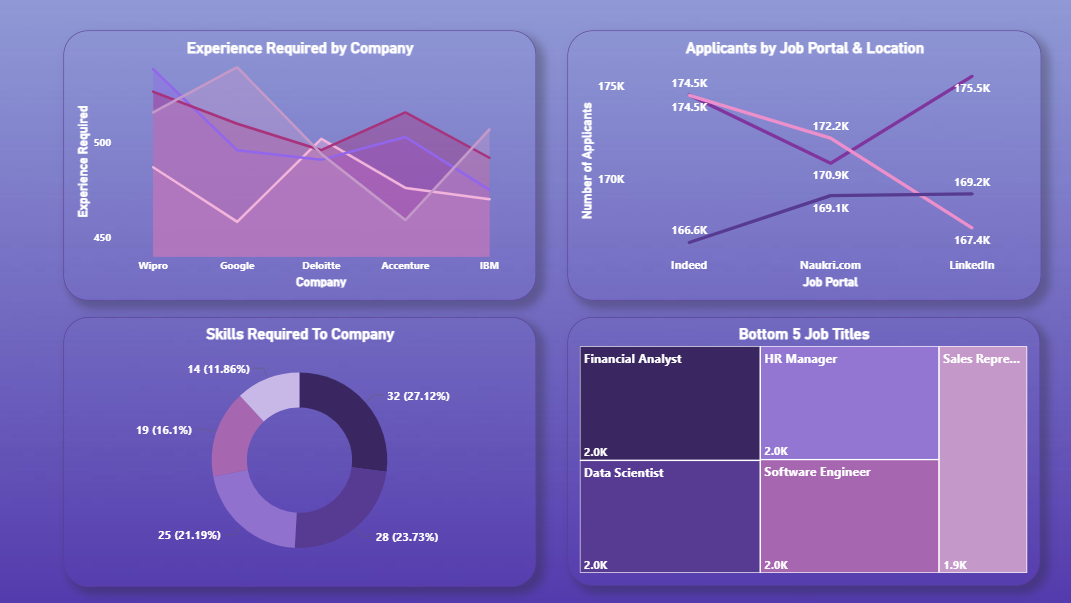

This screenshot's page, from the dashboard's own definition file:
{"tool":"powerbi","page":{"name":"Page 2","canvas":[1280,720],"ordinal":1},"visuals":[{"type":"treemap","title":"Bottom 5 Job Titles","fields":{"Group":["india_job_market_dataset.Job Title"],"Values":["CountNonNull(india_job_market_dataset.Job Portal)"]},"box":[676.3,377.7,562.5,320],"z":0},{"type":"areaChart","title":"Experience Required by Company ","fields":{"Category":["india_job_market_dataset.Company Name"],"Series":["india_job_market_dataset.Job Type"],"Y":["CountNonNull(india_job_market_dataset.Experience Required)"]},"box":[77.5,37.9,562.5,321.6],"z":1000},{"type":"lineChart","title":" Applicants by Job Portal & Location","fields":{"Category":["india_job_market_dataset.Job Portal"],"Y":["Sum(india_job_market_dataset.Number of Applicants)"],"Series":["india_job_market_dataset.Job Location"]},"box":[676.3,37.9,564.1,321.6],"z":2000},{"type":"donutChart","title":" Skills Required To Company","fields":{"Category":["india_job_market_dataset.Skills Required"],"Y":["CountNonNull(india_job_market_dataset.Company Name)"]},"box":[77.5,377.7,562.5,321.6],"z":3000}]}

Visuals, with their boxes in screenshot pixels (x1, y1, x2, y2), scaled from the page's 1280x720 canvas onto the 1071x603 screenshot:
"Bottom 5 Job Titles" treemap: (566,316,1037,584)
"Experience Required by Company " areaChart: (65,32,536,301)
" Applicants by Job Portal & Location" lineChart: (566,32,1038,301)
" Skills Required To Company" donutChart: (65,316,536,586)
